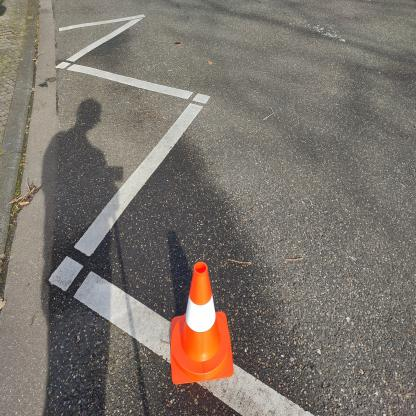Cones_small_orange: (154, 250, 249, 394)
